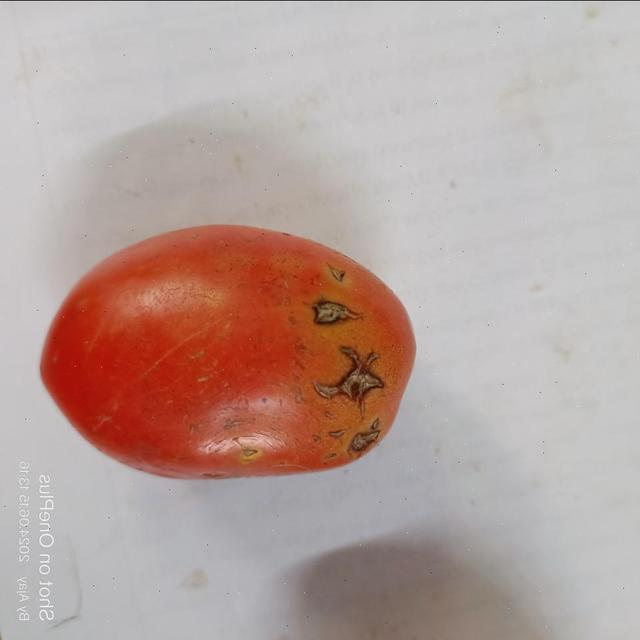Bacterial Spot Fruit: (15, 12, 245, 288)
